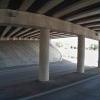Bridge: (6, 3, 96, 60)
